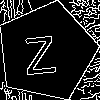Z: (21, 27, 57, 75)
